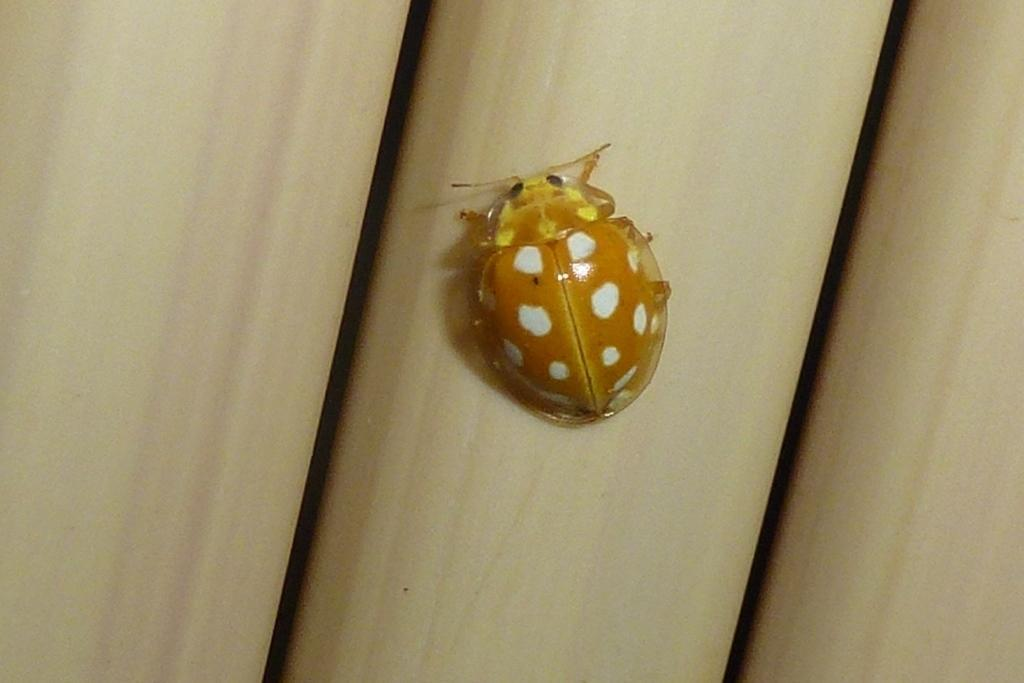ladybug: (449, 141, 677, 427)
